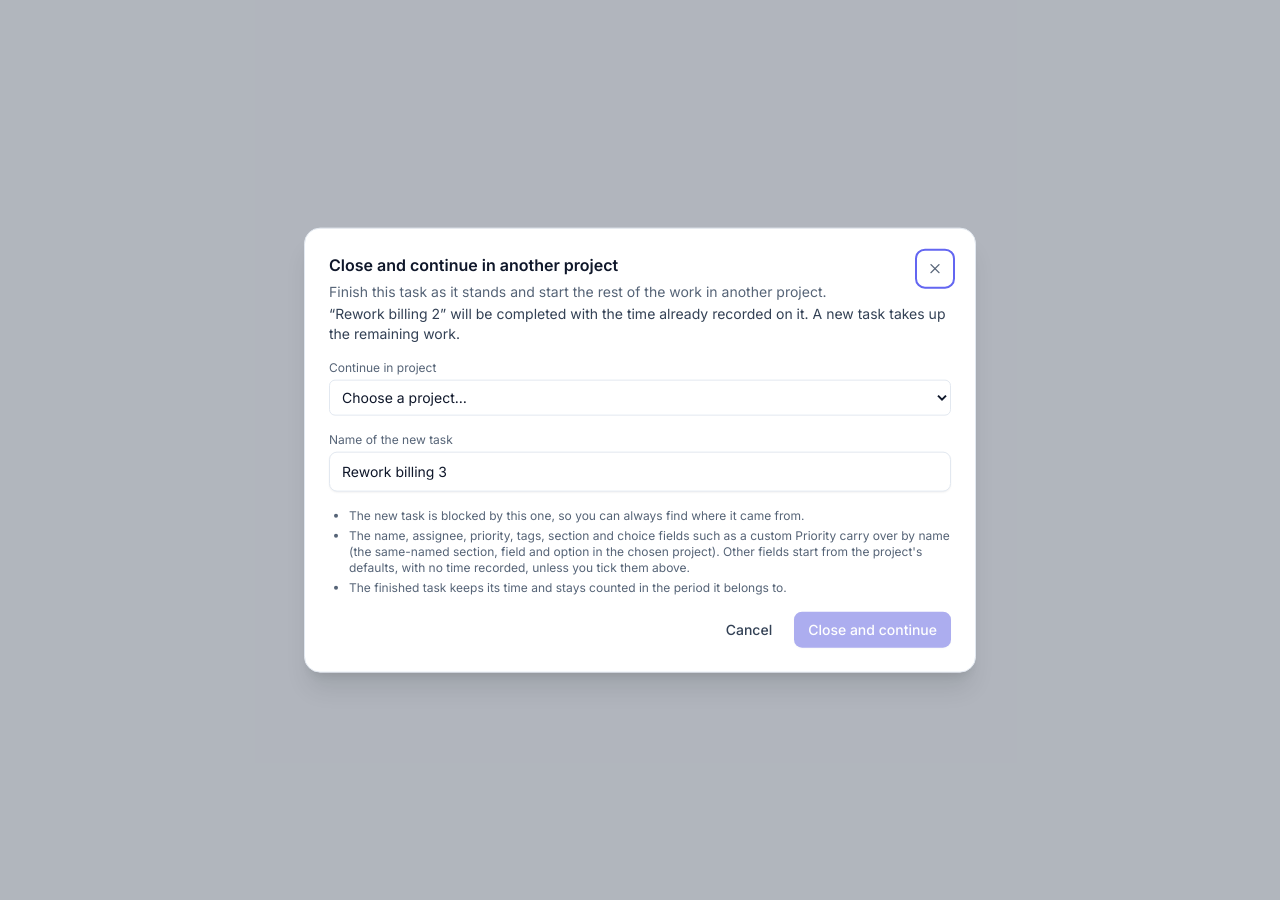
Scenario: continue in another project › previews the numbered title, sends the chosen project once and offers the new task
Expected: the field labelled "Name of the new task" holds "Rework billing 3", [329, 451, 951, 491]
Select "Week 2" in the dropdown labelled "Continue in project" at (640,397), box [329, 379, 951, 415]
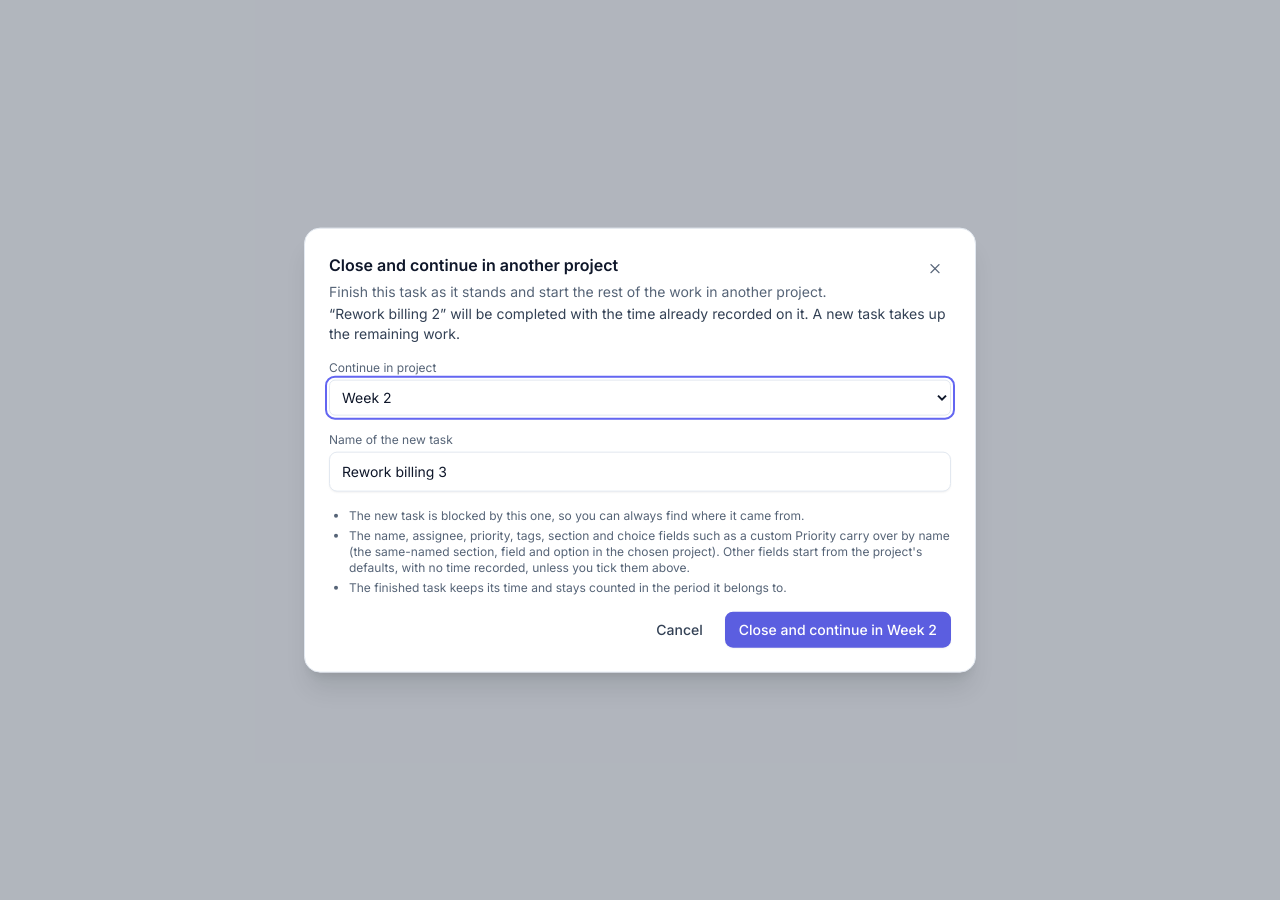
Click the button "Close and continue in Week 2" at (838,629), box [725, 611, 951, 647]
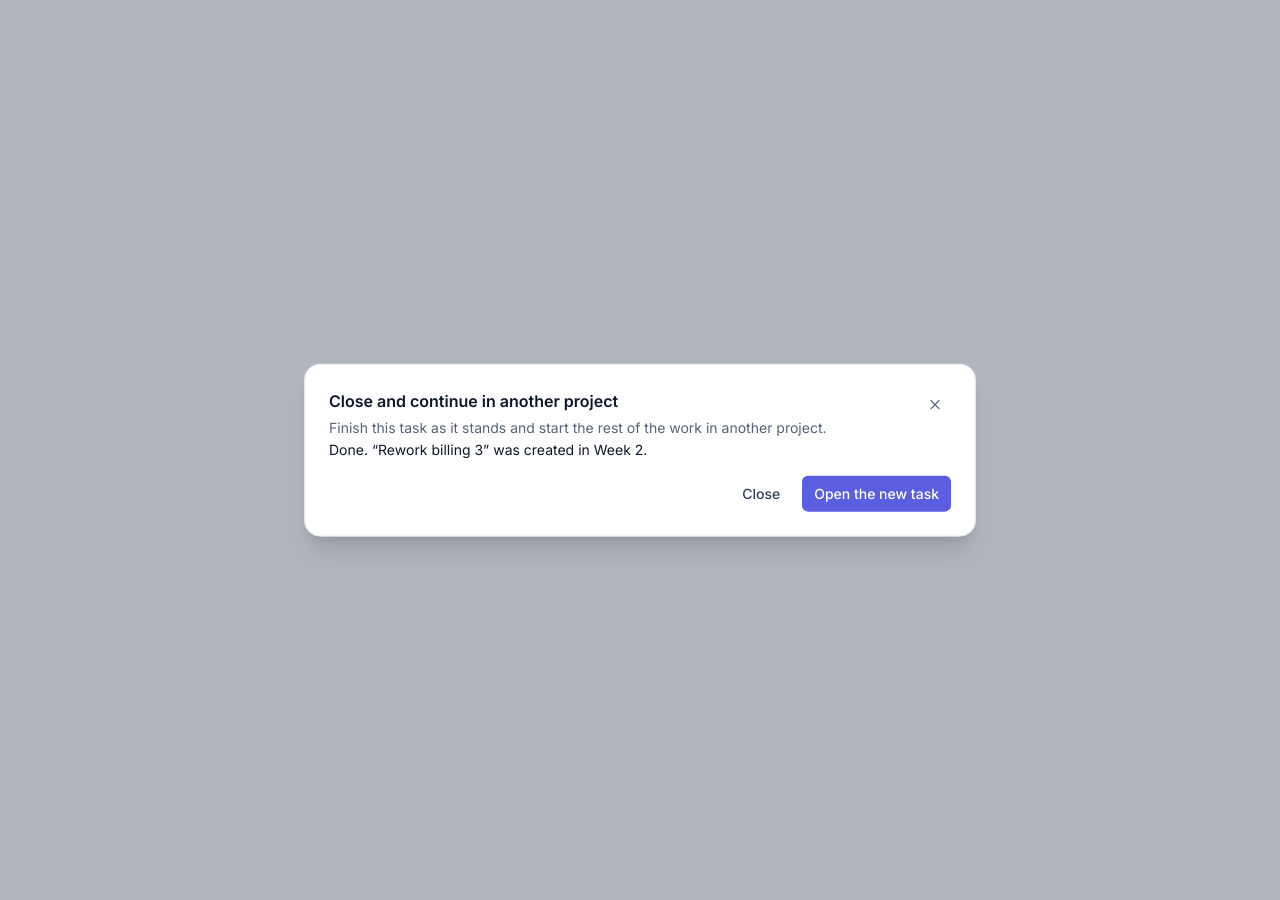
Now the text "Done. “Rework billing 3” was created in Week 2." is shown, box [329, 440, 647, 457]
